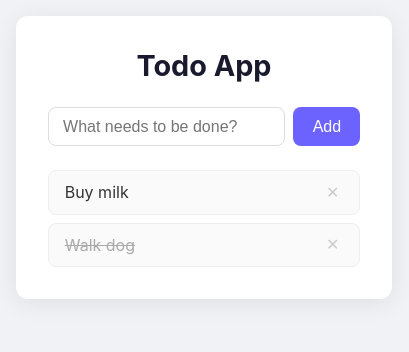
Test: App — toggling a todo › shows an error when the PATCH request fails
Click the text "Buy milk" at (97, 192), box [65, 182, 129, 202]
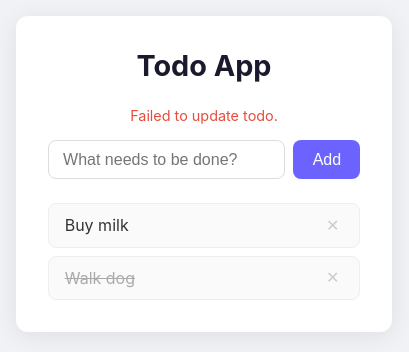
Now the text "Failed to update todo." is shown, box [130, 107, 278, 124]
